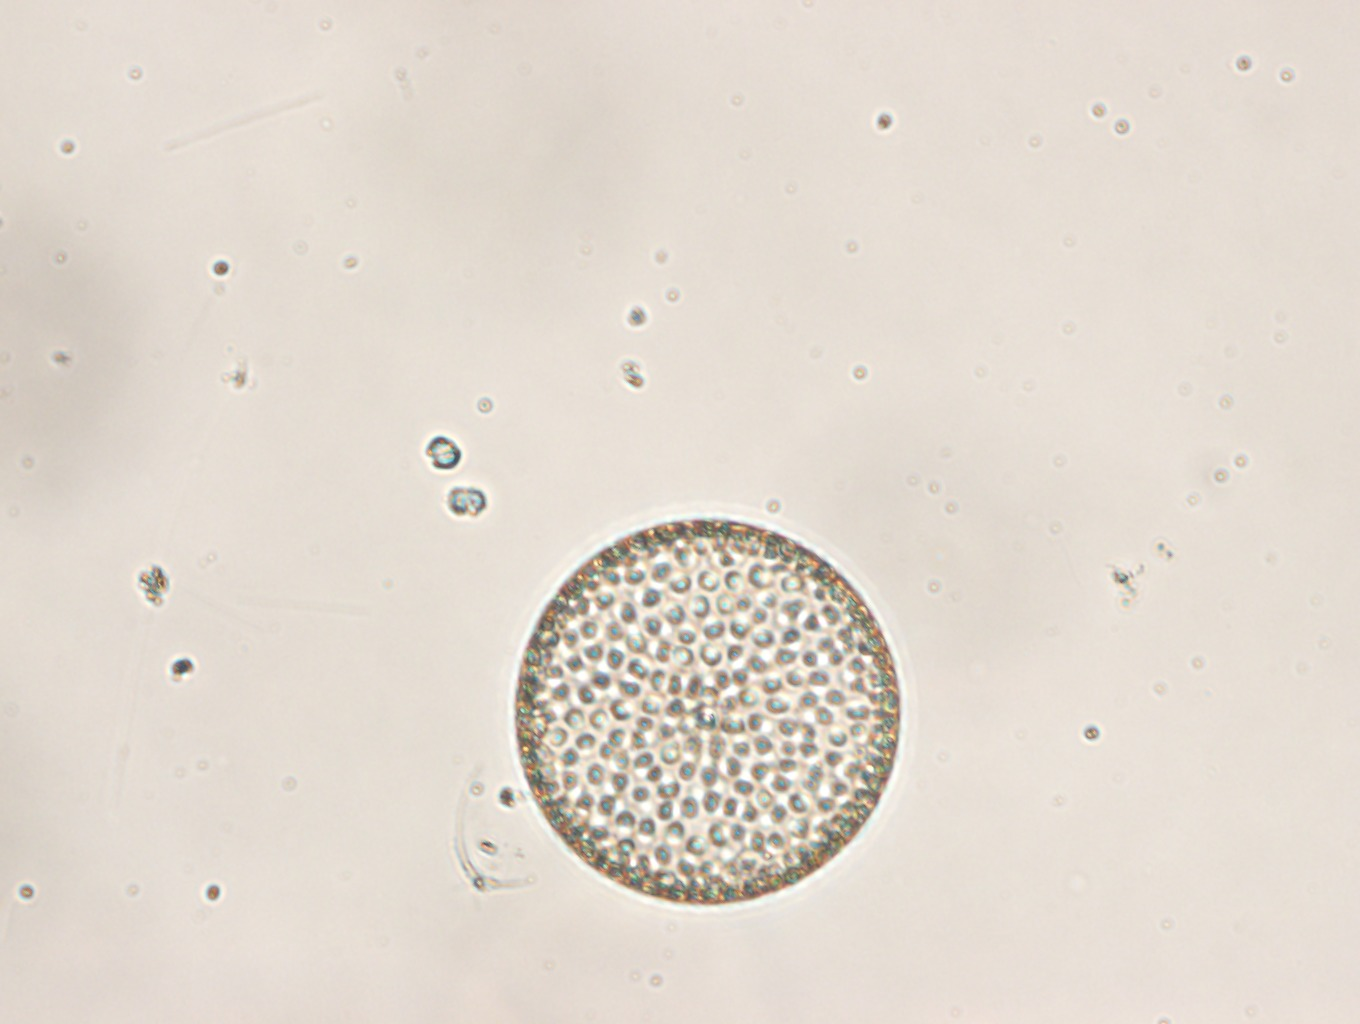coscinodiscus: (511, 517, 902, 908)
